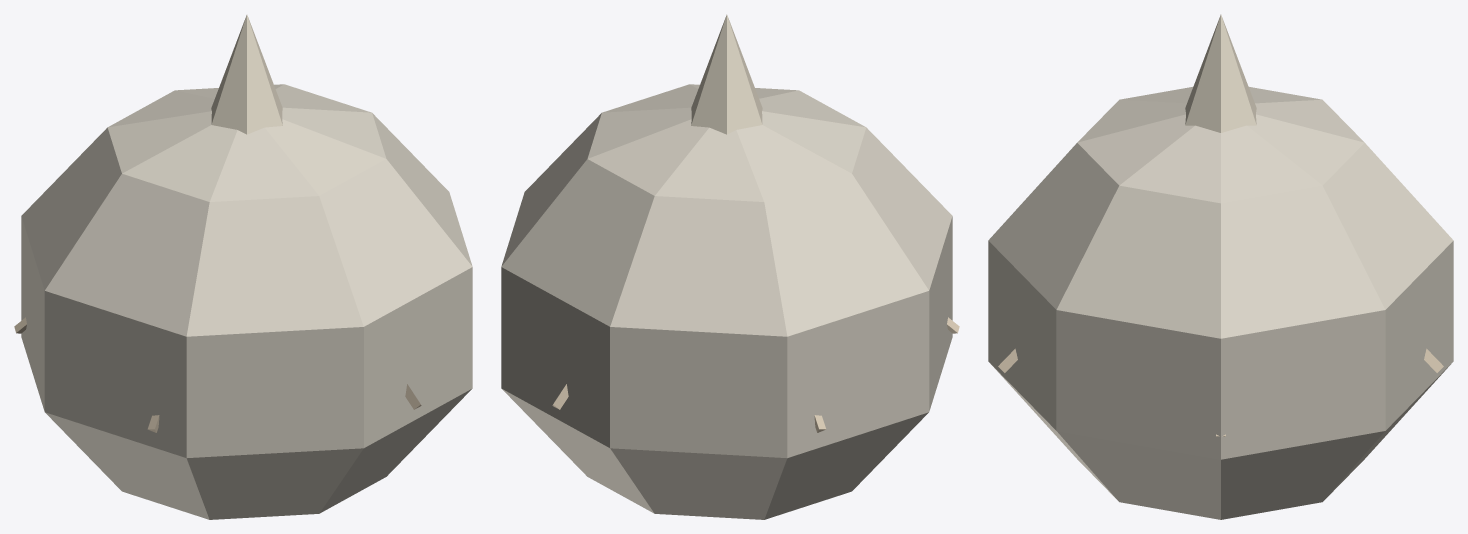
Rendered from Food_Garlic.obj.
3 renders of one model, left to right at view 1: azimuth 30°, elevation 25°; view 2: azimuth 150°, elevation 25°; view 3: azimuth 270°, elevation 25°, orthographic.
Size of the model in its own units: 1.62 by 1.85 by 1.62.
